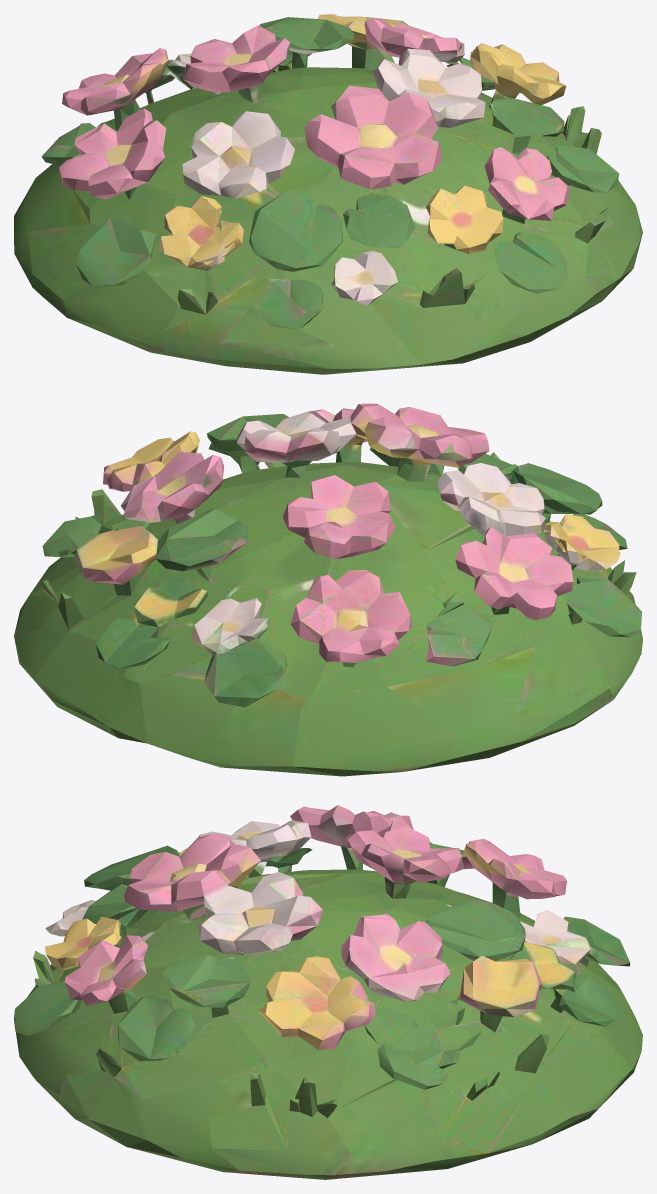
The model's file is flowers.glb.
The picture shows the model from 3 angles, top to bottom: view 1: azimuth 30°, elevation 25°; view 2: azimuth 150°, elevation 25°; view 3: azimuth 270°, elevation 25°; orthographic projection.
Visible parts, largest first — view 1: Mesh_0; view 2: Mesh_0; view 3: Mesh_0.
Part boxes in pixels (box(x1,y1,x2,y2)): Mesh_0: box(14, 14, 642, 374); Mesh_0: box(14, 403, 642, 776); Mesh_0: box(14, 805, 642, 1179).
Bounding box in the file's own units: 1.9 × 0.644 × 1.89.
1 material, 1 textured.
